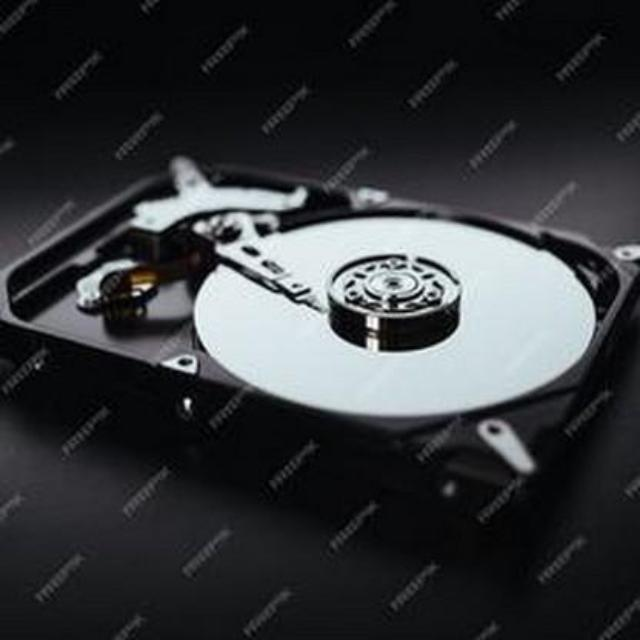DISK: (0, 152, 638, 508)
